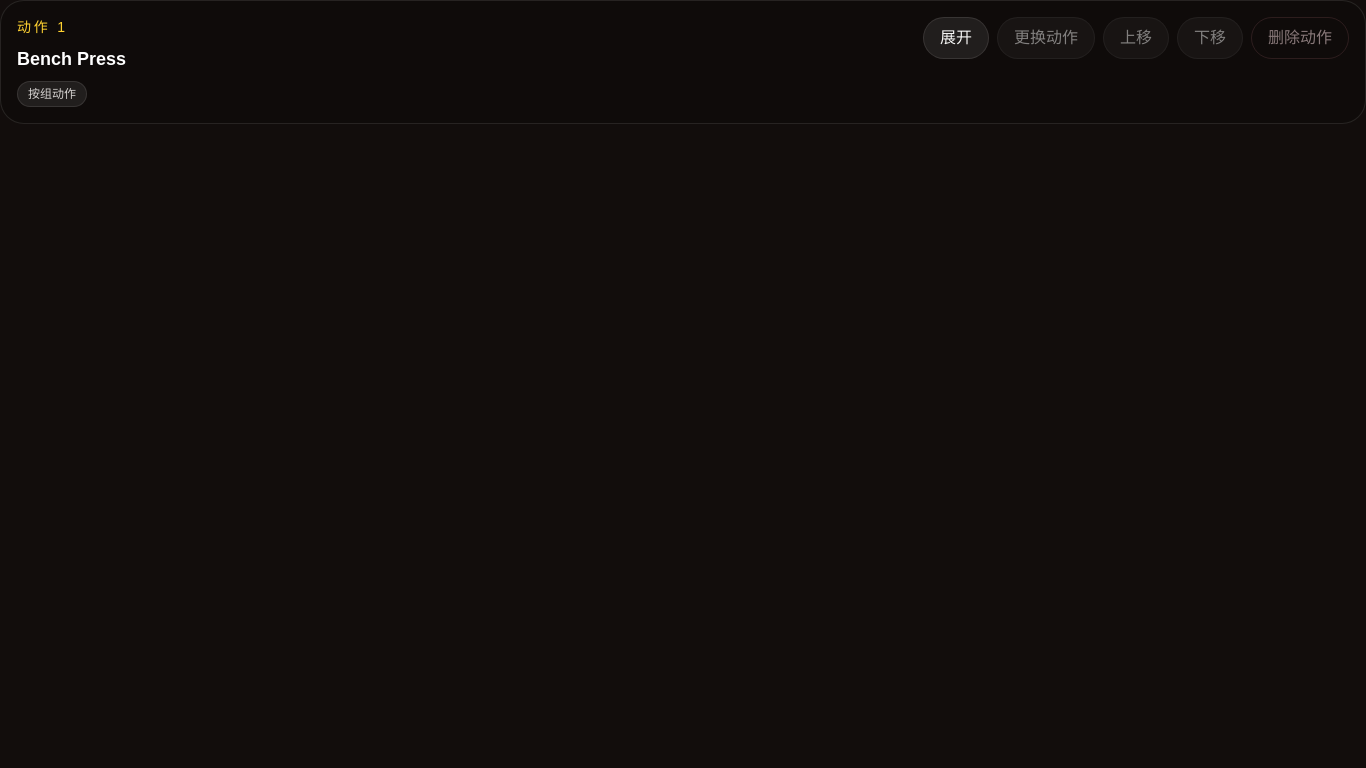
Test: ExerciseStructureEditor › allows expanding when locked while edit controls stay disabled
Check: the button "更换动作" is disabled, box x1=997 y1=17 x2=1095 y2=59
Click the button "展开": (956, 38) x1=923 y1=17 x2=989 y2=59
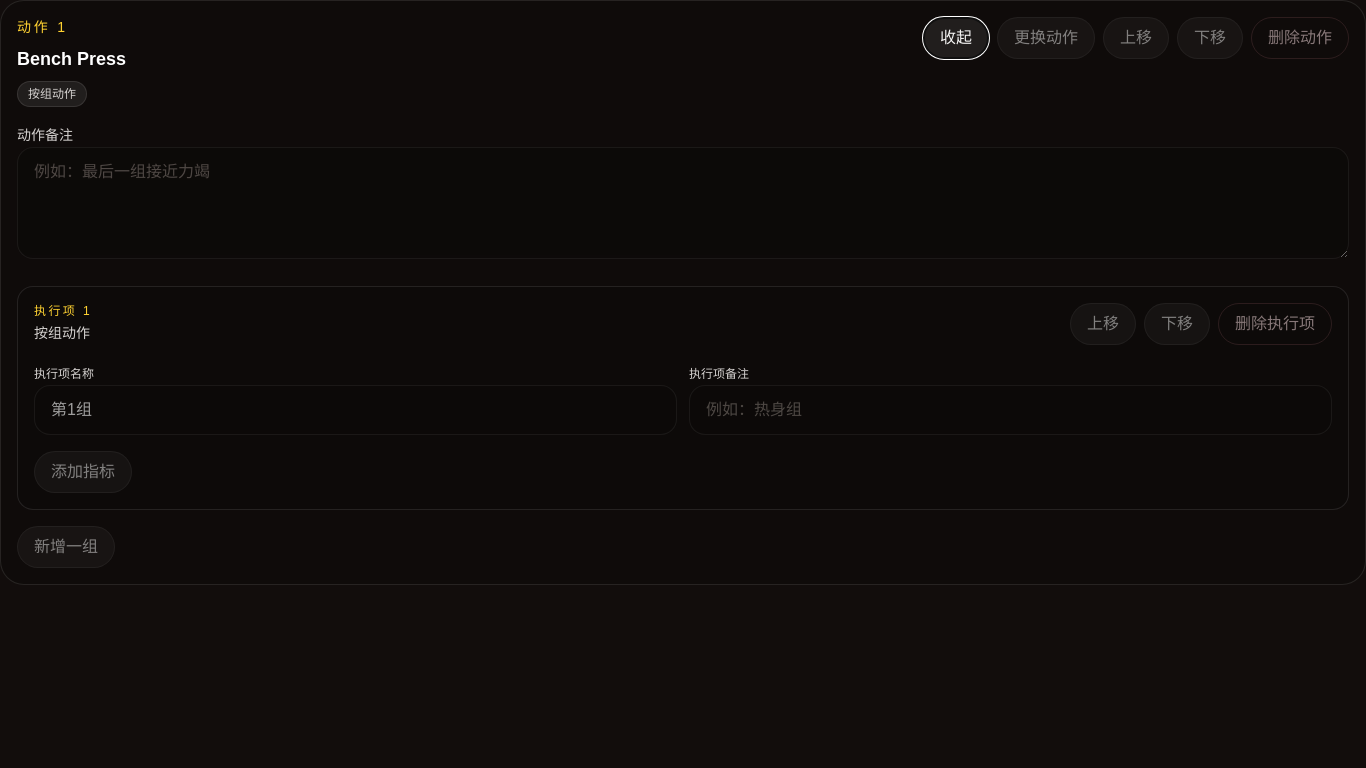
Check: the text box with placeholder "例如：最后一组接近力竭" is disabled, box x1=17 y1=147 x2=1349 y2=259
